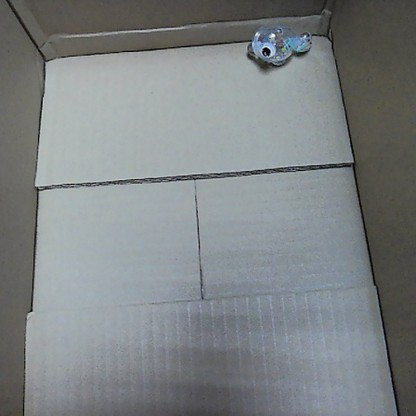whitefish: (244, 17, 314, 71)
